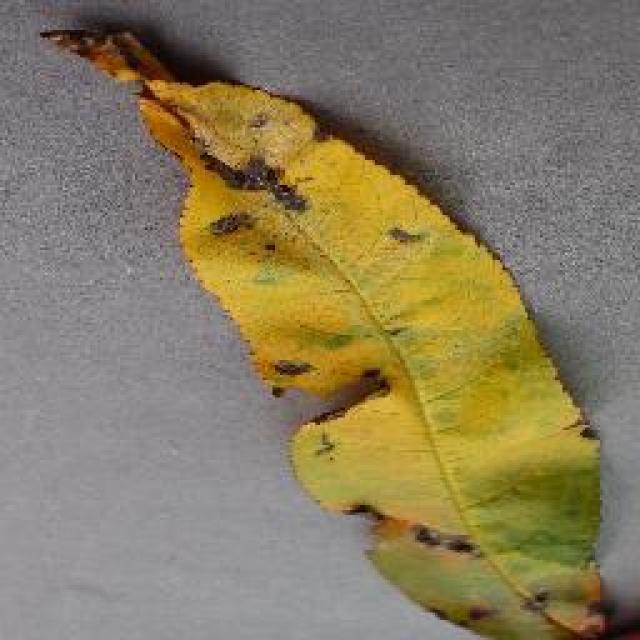Peach_Bacterial_Spot: (115, 43, 498, 565)
